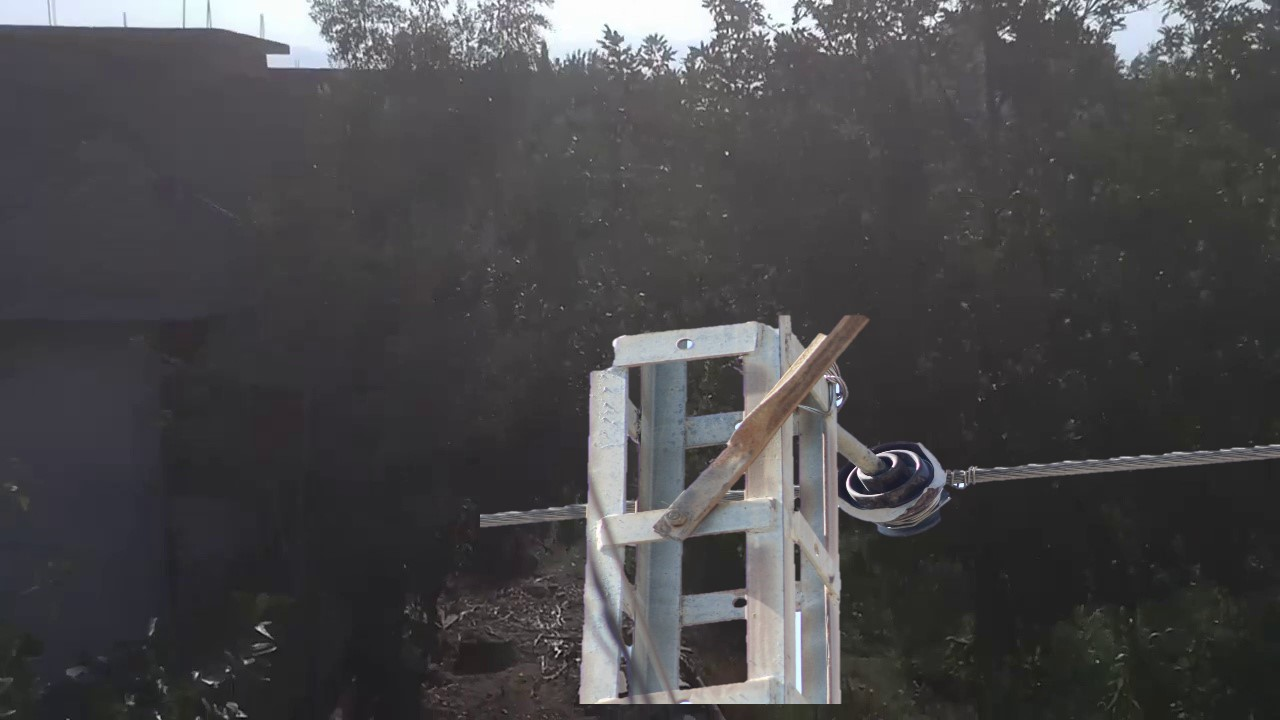defect_pin: (835, 438, 958, 549)
